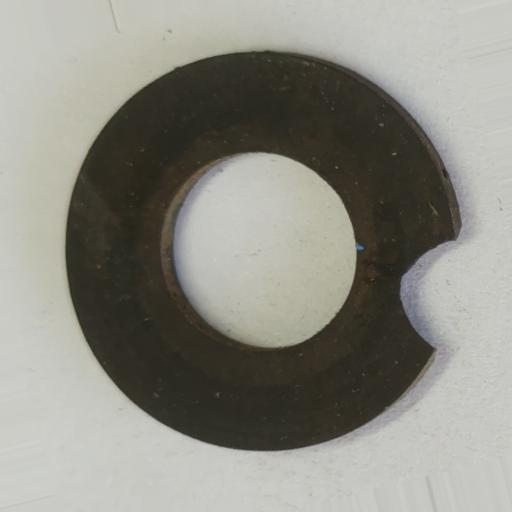defect: (399, 237, 460, 352)
